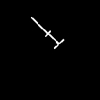double_crochet: (31, 17, 63, 48)
